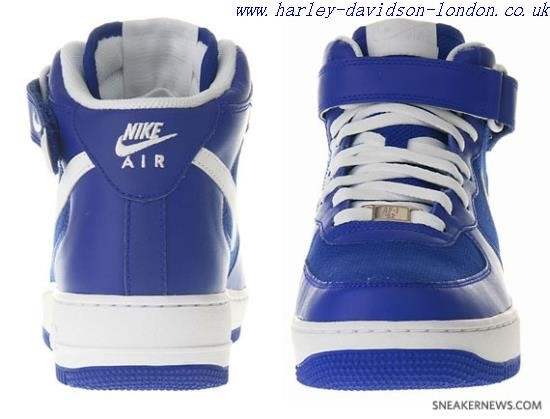Air Force One Blue: (9, 9, 271, 399), (283, 19, 536, 398)
